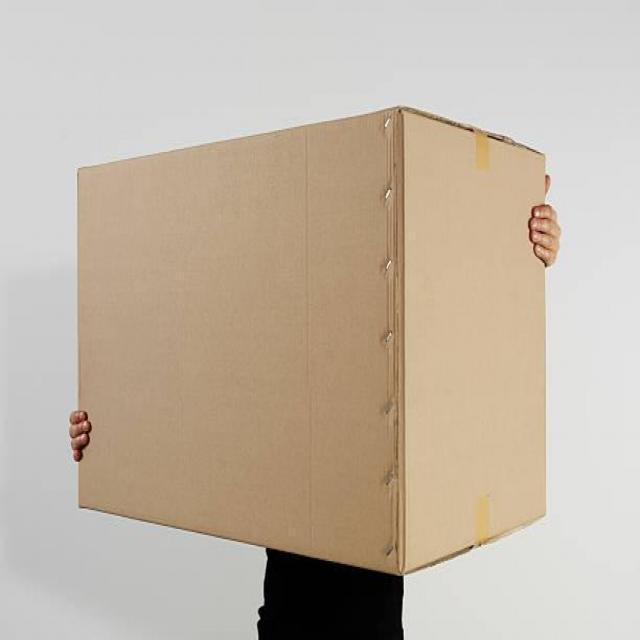box: (68, 99, 571, 589)
